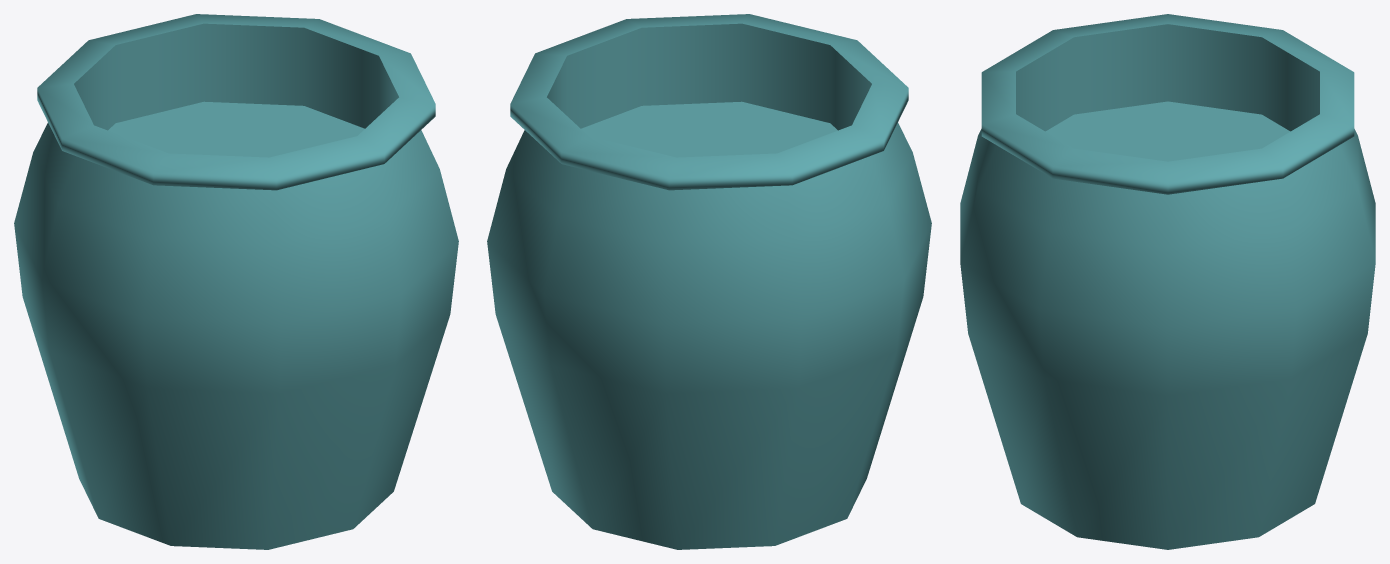
File: tubo.fbx
The picture shows the model from 3 angles, left to right: view 1: azimuth 30°, elevation 25°; view 2: azimuth 150°, elevation 25°; view 3: azimuth 270°, elevation 25°; orthographic projection.
Visible parts, largest first — view 1: pCylinder3; view 2: pCylinder3; view 3: pCylinder3.
Part boxes in pixels (x1,y1,x2,y2): pCylinder3: (14, 14, 458, 549); pCylinder3: (487, 14, 931, 549); pCylinder3: (960, 14, 1375, 549).
Size of the model in its own units: 0.2869 by 0.2778 by 0.2679.
